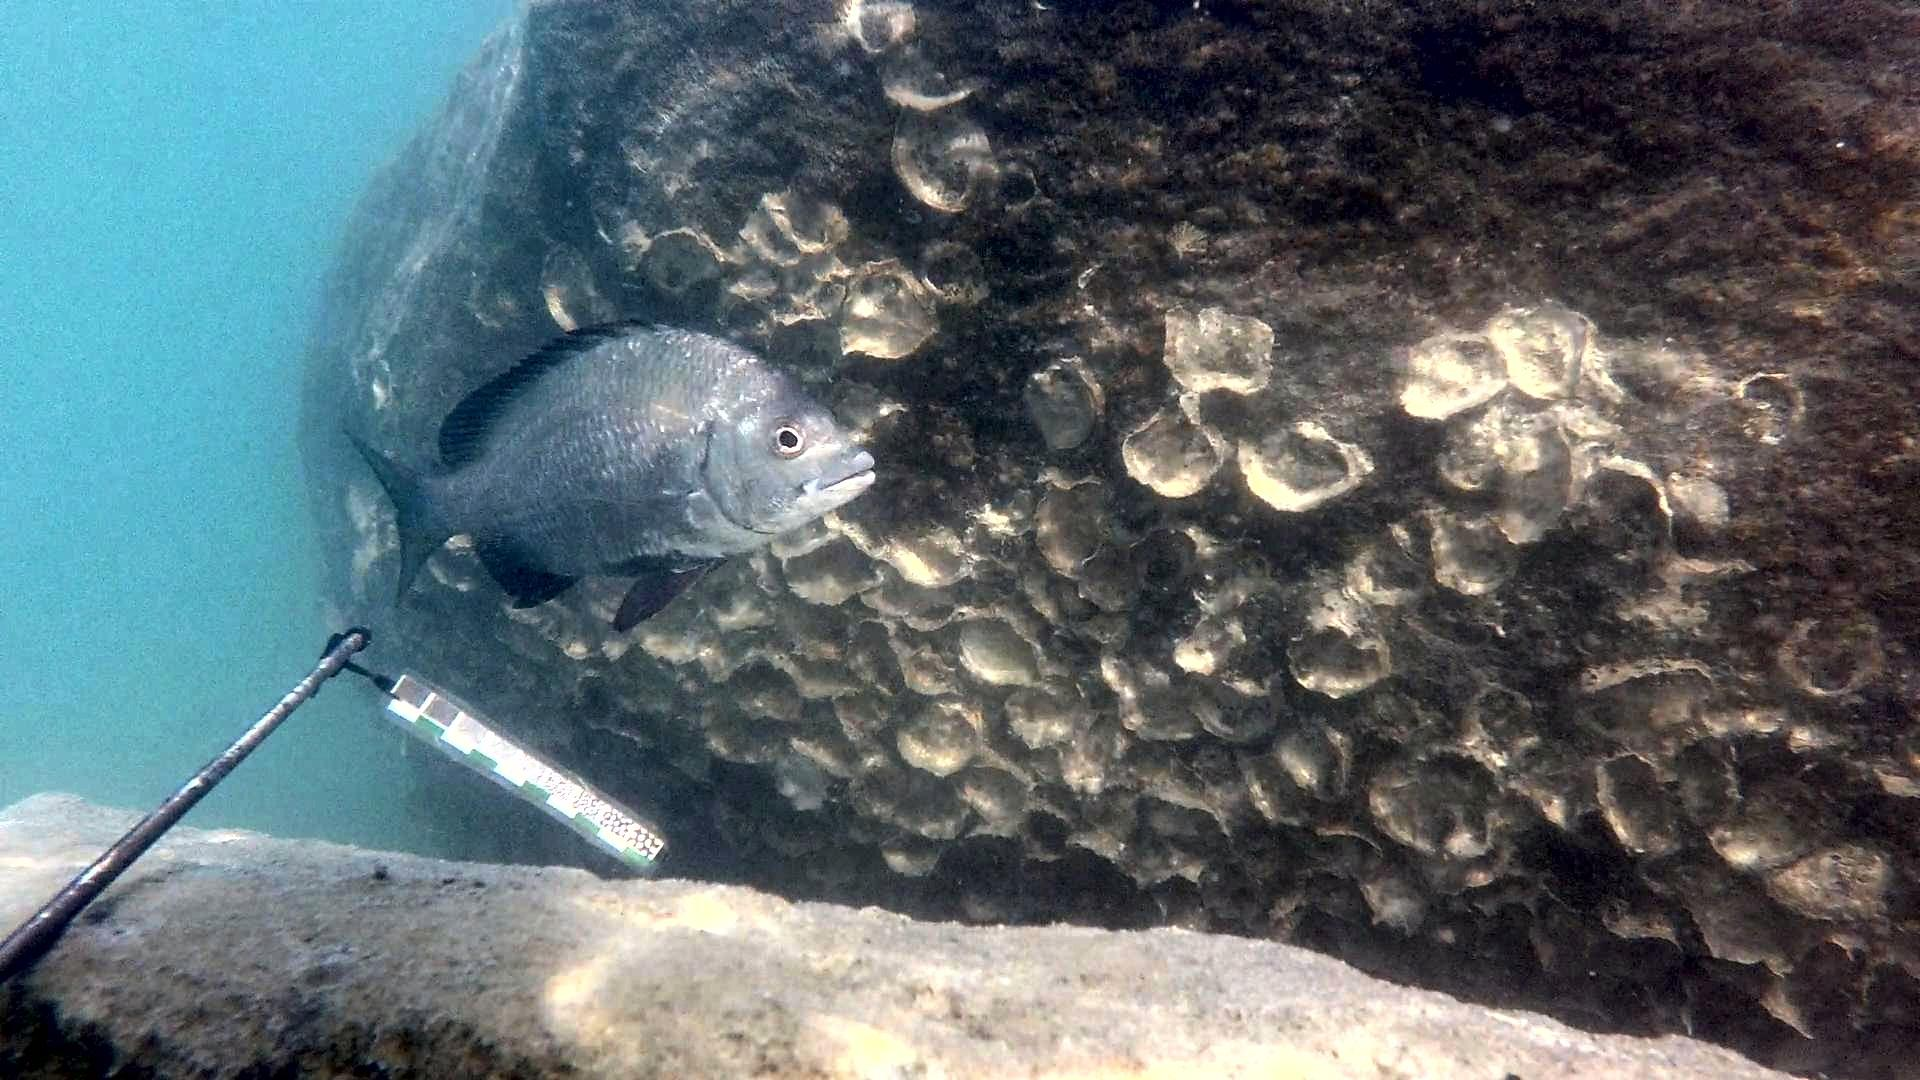acanthopagrus palmaris: (339, 306, 884, 638)
